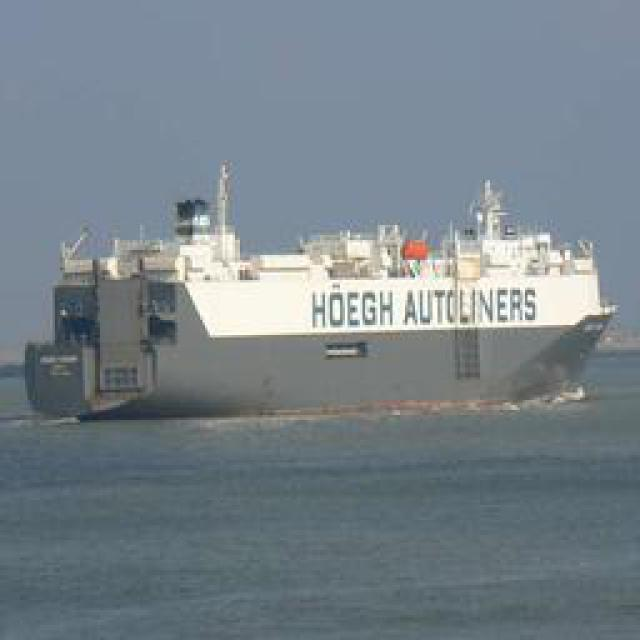Ship: (18, 211, 626, 424)
